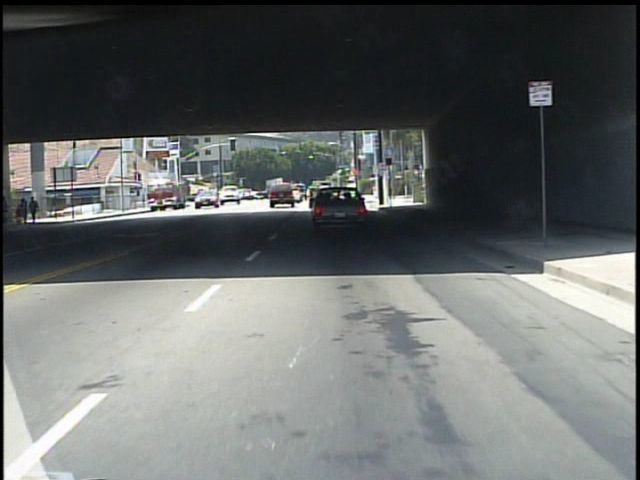person: (17, 198, 31, 227), (31, 197, 43, 227)
